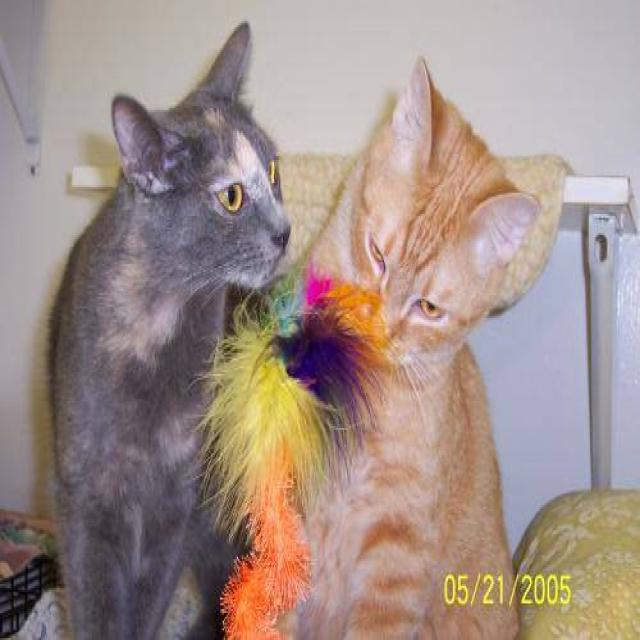cat: (239, 35, 543, 640), (45, 19, 292, 638)
